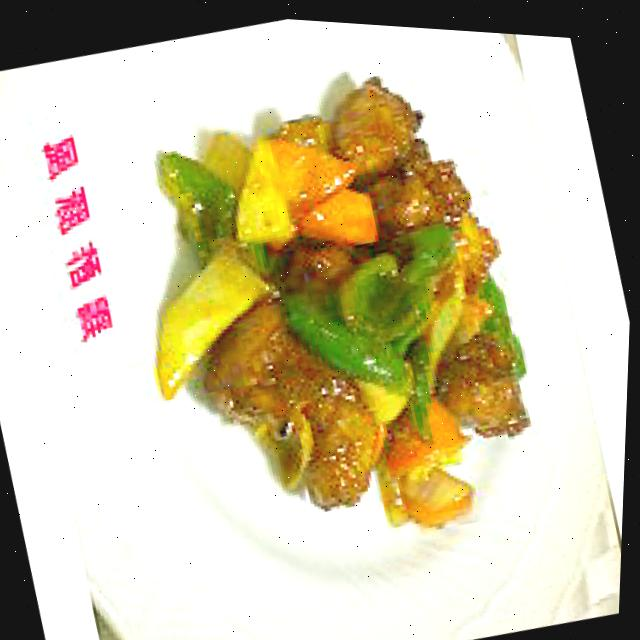猪肉菜式: (99, 34, 574, 586)
